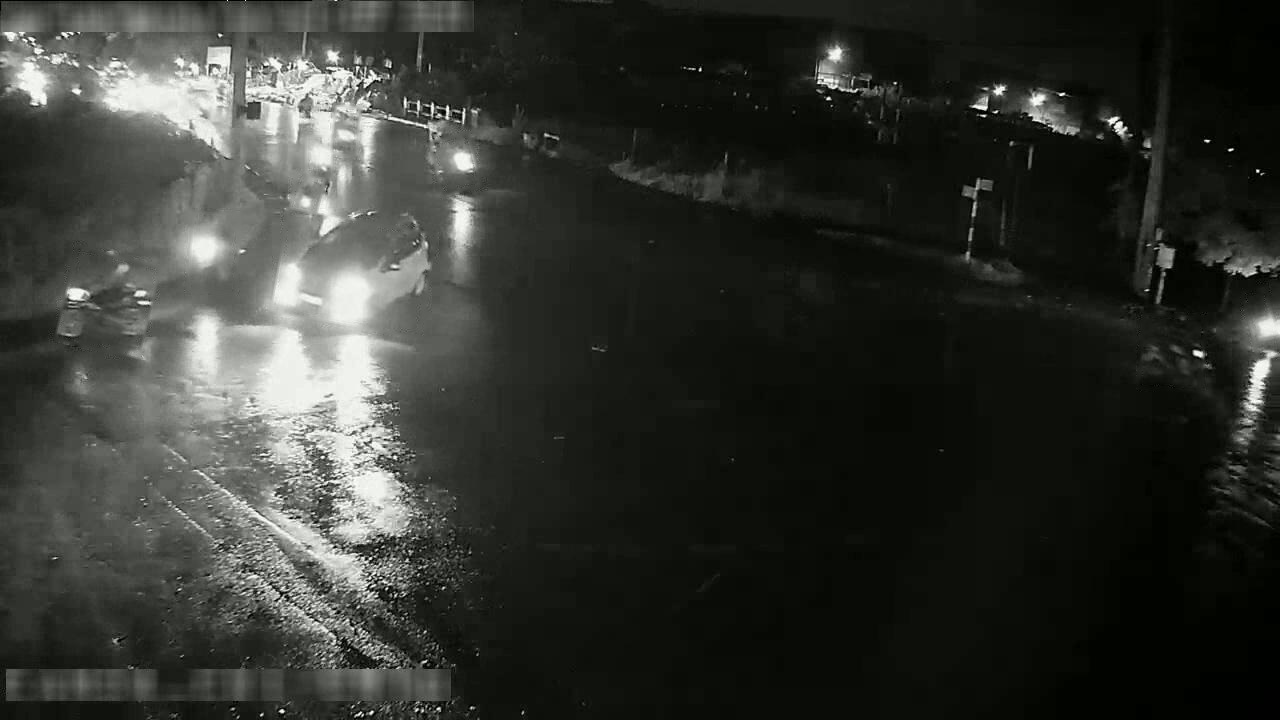Car: (276, 211, 431, 328), (54, 250, 153, 346), (1217, 262, 1279, 354)
Motorcyclist: (1138, 319, 1211, 389), (187, 215, 240, 287), (428, 136, 480, 192), (287, 174, 326, 233), (307, 138, 334, 190), (331, 113, 360, 153)
